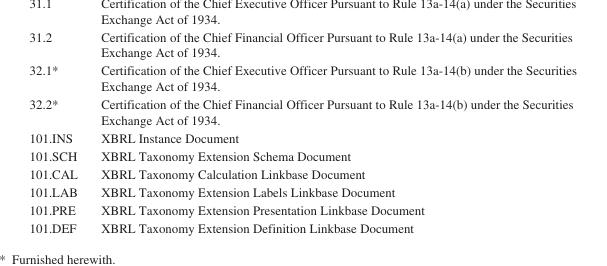table: (28, 29, 576, 234)
table column: (88, 29, 576, 234), (28, 29, 88, 234)
table row: (28, 60, 576, 94), (28, 94, 576, 128), (28, 29, 576, 60), (28, 128, 576, 146), (28, 146, 576, 164), (28, 164, 576, 182), (28, 182, 576, 200), (28, 200, 576, 218), (28, 218, 576, 234)
